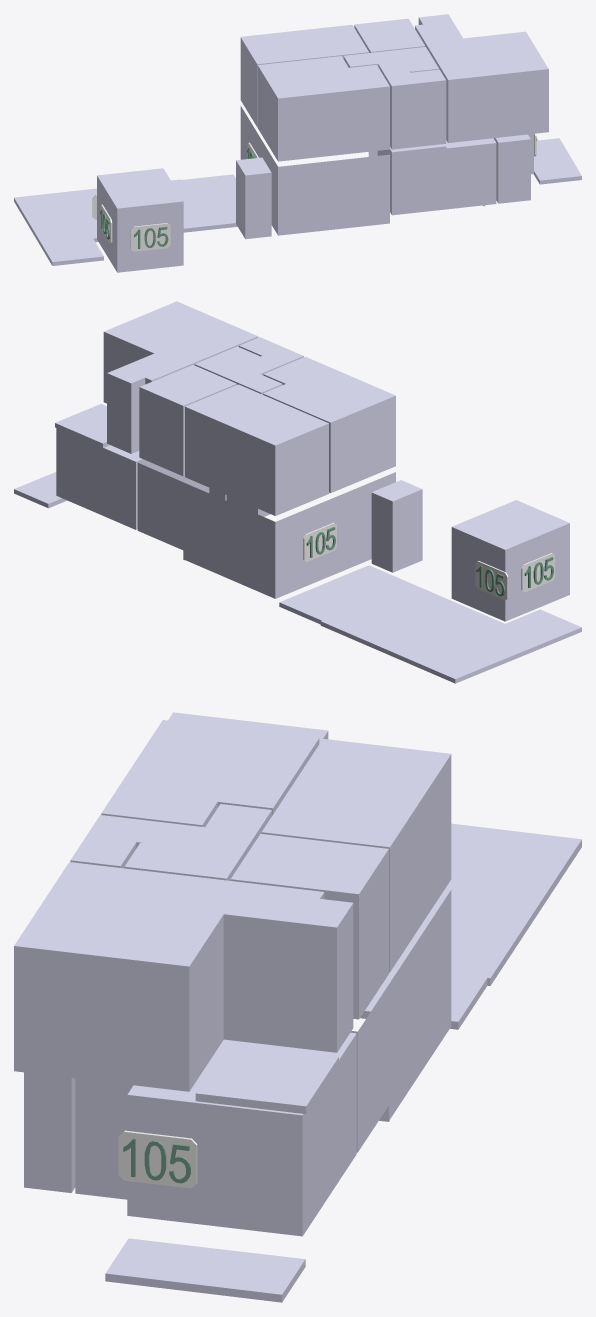
The picture shows the model from 3 angles, top to bottom: view 1: azimuth 30°, elevation 25°; view 2: azimuth 150°, elevation 25°; view 3: azimuth 270°, elevation 25°; orthographic projection. The views are drawn at different scales.
Visible parts, largest first — view 1: g_6, g_10, g_1, g_12, g_2, g_5, g_7, g_11, g_4, g_3, g_9, g_8 (+2 smaller); view 2: g_1, g_12, g_7, g_10, g_5, g_6, g_0, g_9, g_4, g_8, g_13, g_14 (+4 smaller); view 3: g_10, g_0, g_7, g_12, g_6, g_1, g_9, g_14, g_13, g_8, g_3, g_2 (+3 smaller).
Boxes of the visible parts, bbox=[...] form: g_6: bbox=[257, 56, 389, 161]; g_10: bbox=[415, 14, 548, 142]; g_1: bbox=[240, 106, 389, 235]; g_12: bbox=[14, 174, 237, 265]; g_2: bbox=[377, 138, 496, 215]; g_5: bbox=[97, 168, 183, 272]; g_7: bbox=[240, 24, 368, 127]; g_11: bbox=[384, 69, 446, 149]; g_4: bbox=[236, 157, 271, 239]; g_3: bbox=[494, 134, 530, 203]; g_9: bbox=[354, 18, 425, 52]; g_8: bbox=[343, 47, 439, 76]; g_1: bbox=[137, 463, 395, 598]; g_12: bbox=[279, 565, 581, 683]; g_7: bbox=[185, 384, 328, 515]; g_10: bbox=[103, 301, 258, 453]; g_5: bbox=[451, 500, 569, 621]; g_6: bbox=[263, 356, 395, 493]; g_0: bbox=[56, 428, 209, 529]; g_9: bbox=[139, 365, 236, 476]; g_4: bbox=[371, 480, 422, 572]; g_8: bbox=[194, 346, 282, 394]; g_13: bbox=[55, 404, 109, 447]; g_14: bbox=[14, 472, 66, 508]; g_10: bbox=[14, 862, 353, 1091]; g_0: bbox=[127, 1032, 356, 1236]; g_7: bbox=[261, 738, 451, 972]; g_12: bbox=[360, 823, 581, 1029]; g_6: bbox=[101, 720, 319, 827]; g_1: bbox=[350, 890, 451, 1152]; g_9: bbox=[230, 833, 388, 1019]; g_14: bbox=[105, 1238, 305, 1302]; g_13: bbox=[195, 1043, 338, 1114]; g_8: bbox=[124, 804, 271, 880]; g_3: bbox=[24, 1072, 75, 1192]; g_2: bbox=[75, 1078, 133, 1199].
Size of the model in its own units: 20.08 by 5.35 by 9.8.
